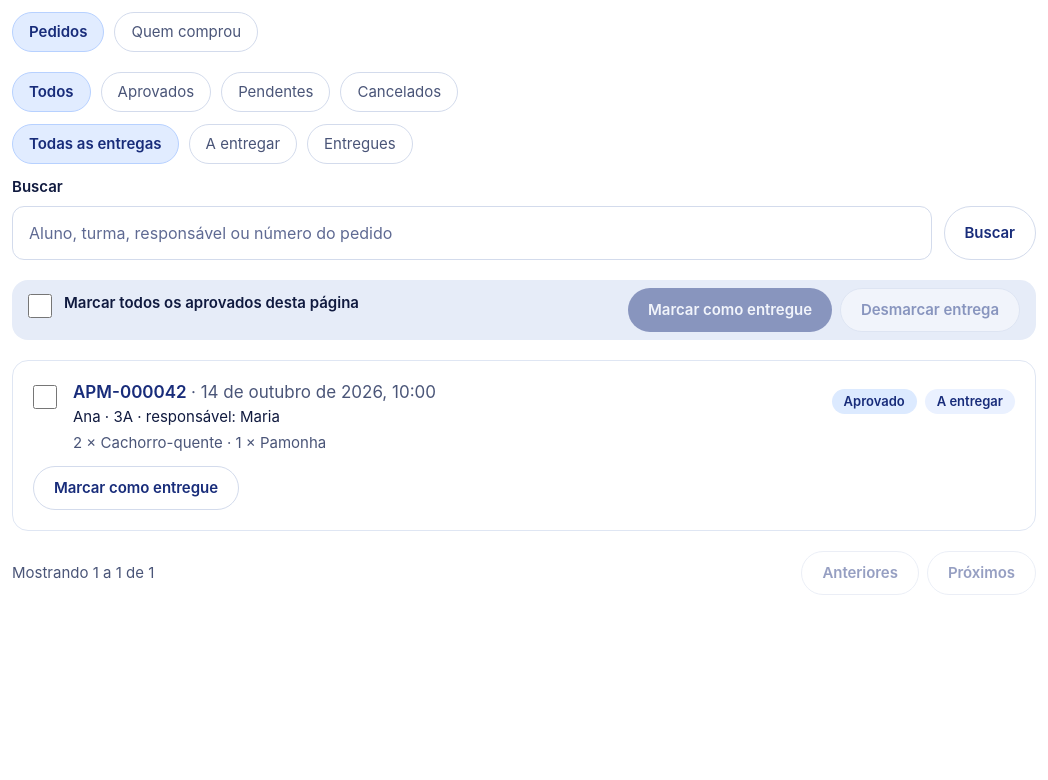
pedidos da campanha › os que a API pulou sao contados na mensagem; nada mudou vira aviso claro
Click the button with aria-label "Marcar o pedido APM-000042 como entregue".
click(136, 488)  # box [33,466,239,510]
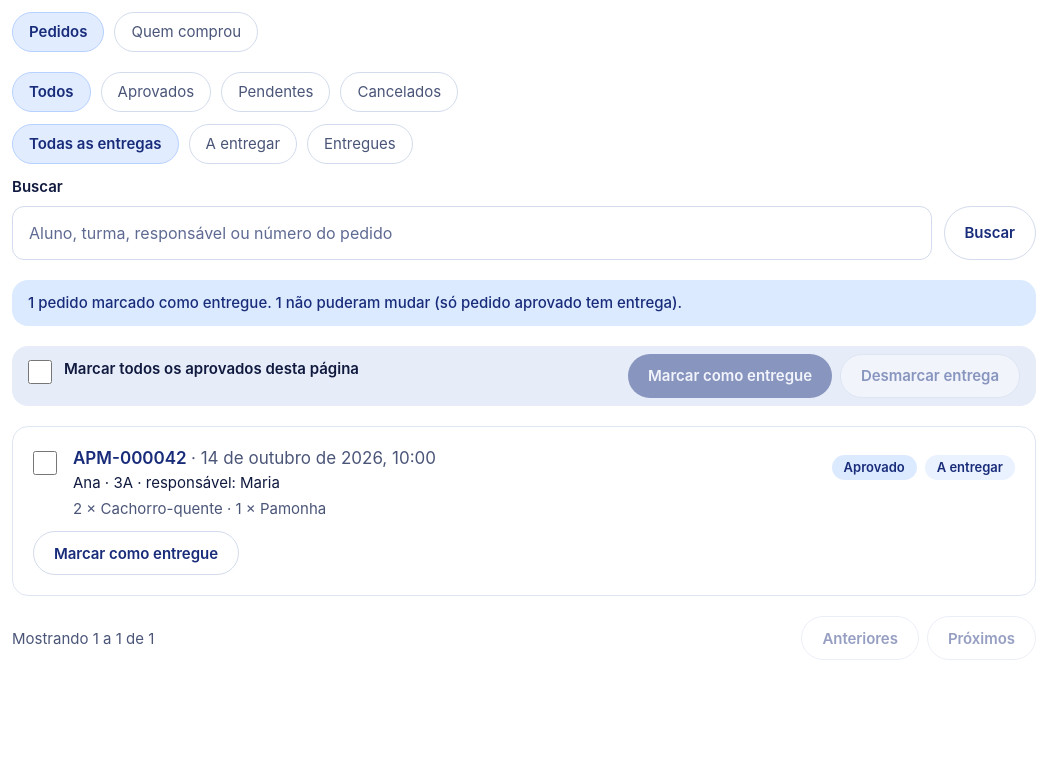
Result: the message shows "1 não puderam mudar" at [28,293,682,312]
Click the button with aria-label "Marcar o pedido APM-000042 como entregue".
click(136, 553)  # box [33,531,239,575]
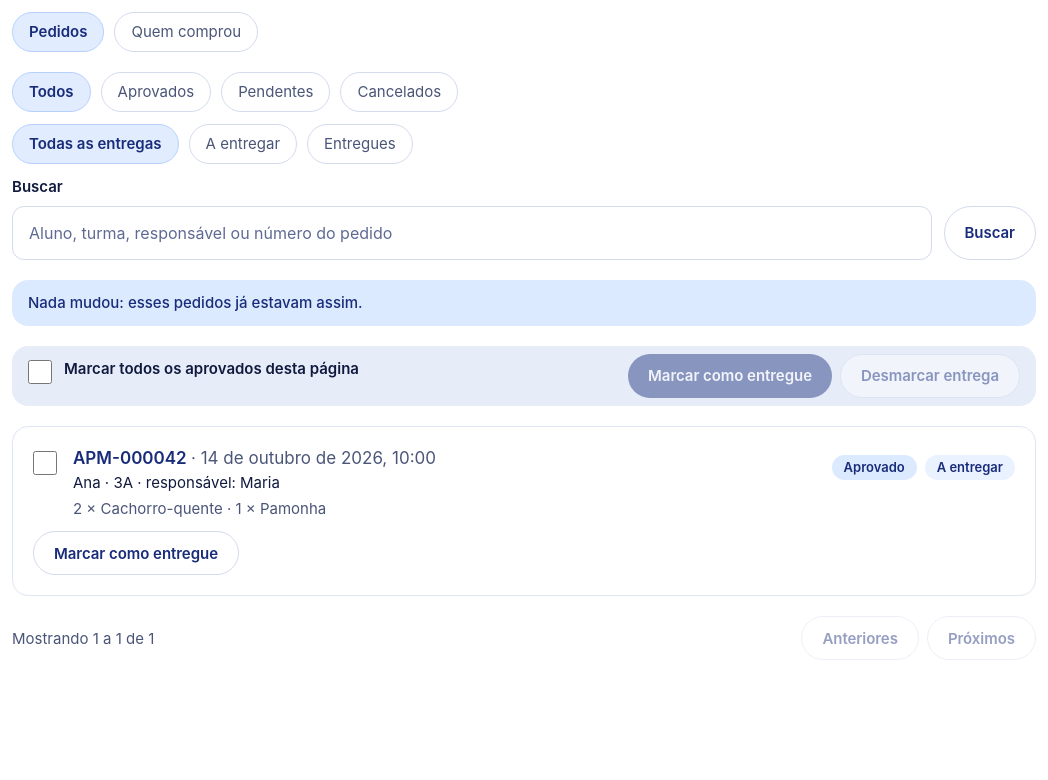
Result: the text "Nada mudou: esses pedidos já estavam assim." is shown at [12,280,1036,326]
